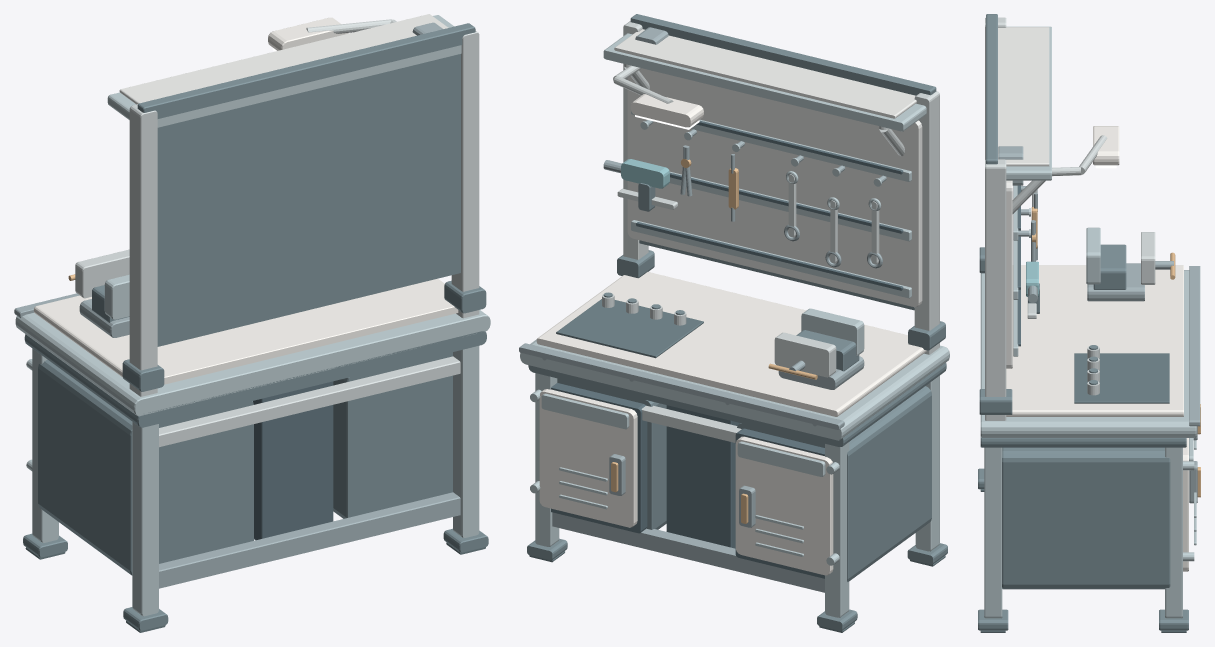
Rendered from tool_bench.glb.
3 views of the same model, side by side, from view 1: azimuth 30°, elevation 25°; view 2: azimuth 150°, elevation 25°; view 3: azimuth 270°, elevation 25° (orthographic). The views are drawn at different scales.
Parts seen in each view (by area): view 1: Fixed__graphite, Fixed__aluminium, Fixed__silver, Fixed__ivory, Fixed__recess, Fixed__steel, Fixed__shell, Vise_Moving_Jaw__silver; view 2: Fixed__shell, Fixed__graphite, Fixed__aluminium, Fixed__ivory, Fixed__recess, Fixed__steel, Fixed__silver, Tool_Cupboard_Right__ivory, Tool_Cupboard_Left__ivory, Fixed__rubber, Tool_Cupboard_Right__aluminium, Tool_Cupboard_Left__aluminium (+2 smaller); view 3: Fixed__graphite, Fixed__ivory, Fixed__aluminium, Fixed__shell, Fixed__silver, Fixed__rubber, Fixed__steel, Vise_Moving_Jaw__silver, Tool_Cupboard_Right__ivory, Fixed__recess, Fixed__teal.
Boxes of the visible parts, x1=… form: Fixed__graphite: x1=23, y1=23, x2=488, y2=630; Fixed__aluminium: x1=15, y1=15, x2=490, y2=616; Fixed__silver: x1=129, y1=19, x2=479, y2=447; Fixed__ivory: x1=33, y1=17, x2=458, y2=384; Fixed__recess: x1=253, y1=381, x2=333, y2=540; Fixed__steel: x1=14, y1=22, x2=460, y2=588; Fixed__shell: x1=119, y1=14, x2=448, y2=104; Vise_Moving_Jaw__silver: x1=75, y1=249, x2=129, y2=298; Fixed__shell: x1=614, y1=29, x2=922, y2=307; Fixed__graphite: x1=527, y1=14, x2=947, y2=630; Fixed__aluminium: x1=520, y1=33, x2=949, y2=617; Fixed__ivory: x1=536, y1=94, x2=926, y2=416; Fixed__recess: x1=551, y1=120, x2=903, y2=578; Fixed__steel: x1=519, y1=27, x2=886, y2=592; Fixed__silver: x1=602, y1=21, x2=939, y2=442; Tool_Cupboard_Right__ivory: x1=539, y1=389, x2=637, y2=527; Tool_Cupboard_Left__ivory: x1=735, y1=436, x2=833, y2=575; Fixed__rubber: x1=529, y1=299, x2=945, y2=632; Tool_Cupboard_Right__aluminium: x1=541, y1=393, x2=629, y2=509; Tool_Cupboard_Left__aluminium: x1=737, y1=441, x2=825, y2=556; Fixed__graphite: x1=978, y1=14, x2=1188, y2=630; Fixed__ivory: x1=1006, y1=126, x2=1183, y2=416; Fixed__aluminium: x1=980, y1=26, x2=1196, y2=618; Fixed__shell: x1=998, y1=27, x2=1049, y2=368; Fixed__silver: x1=985, y1=17, x2=1107, y2=420; Fixed__rubber: x1=980, y1=353, x2=1186, y2=632; Fixed__steel: x1=998, y1=146, x2=1200, y2=426; Vise_Moving_Jaw__silver: x1=1141, y1=232, x2=1155, y2=284; Tool_Cupboard_Right__ivory: x1=1183, y1=438, x2=1188, y2=571; Fixed__recess: x1=1017, y1=185, x2=1020, y2=346; Fixed__teal: x1=1026, y1=261, x2=1038, y2=296.
Bounding box in the file's own units: 1.48 × 2.07 × 0.887.
